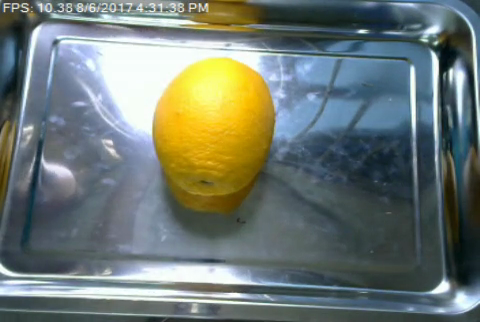Orange: (151, 56, 275, 195)
